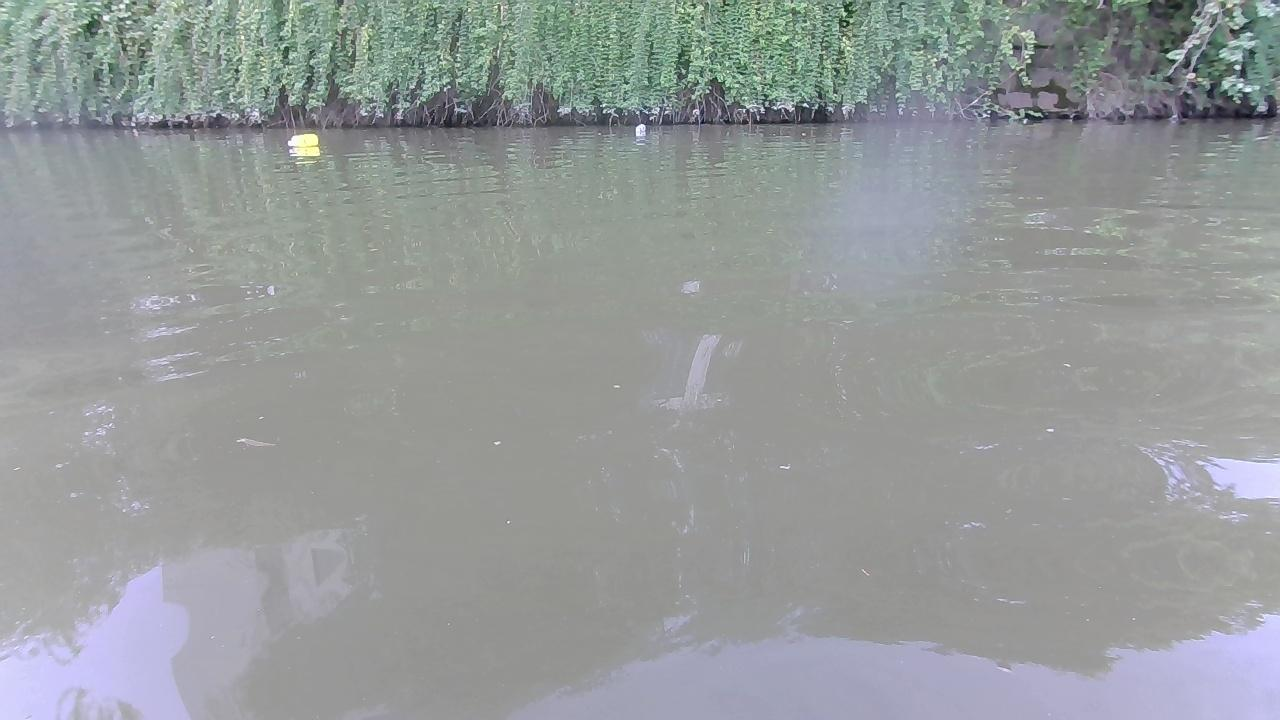bottle: (285, 133, 322, 148), (634, 123, 645, 136)
